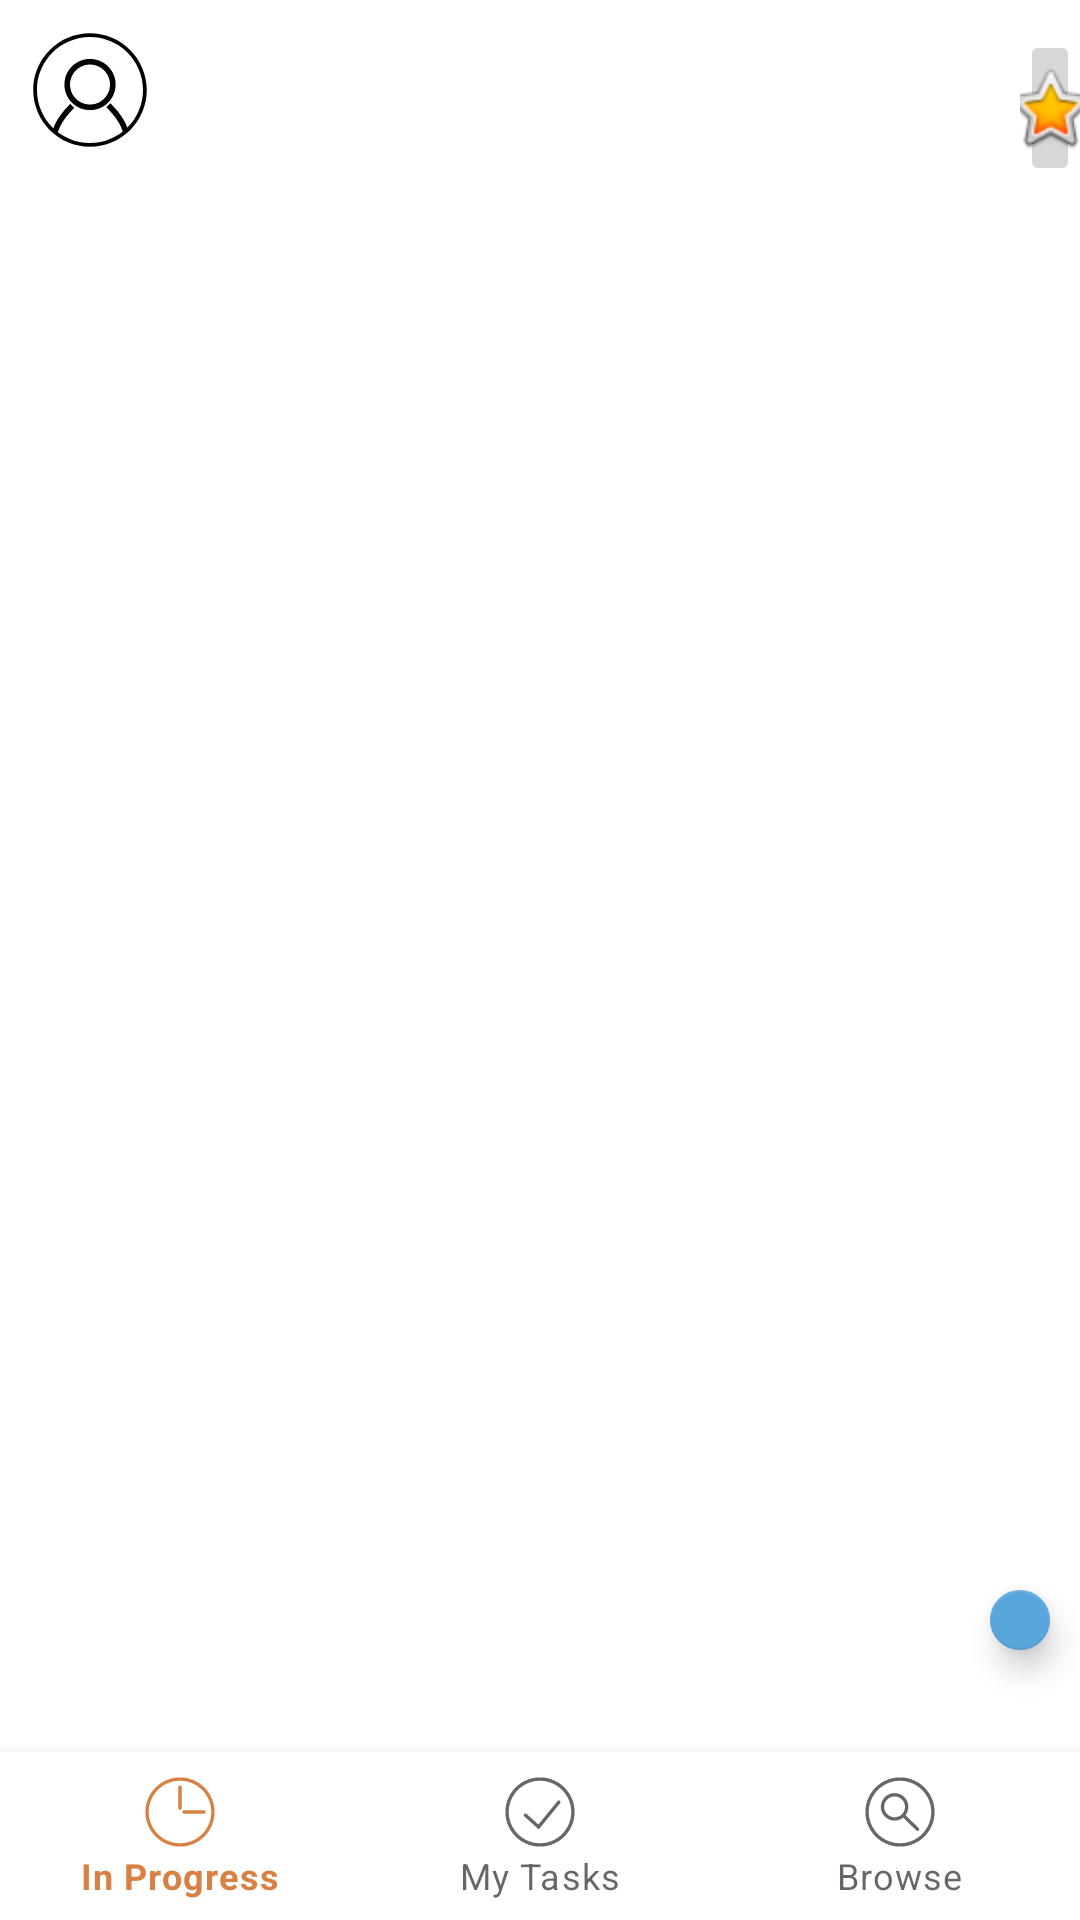

Locate icon controls on the screen. Image size 1080px×1920px, boxes as (left=x1, top=y1, right=x2, bottom=y2).
star on: (left=1020, top=48, right=1080, bottom=168)
user: (left=33, top=33, right=147, bottom=147)
